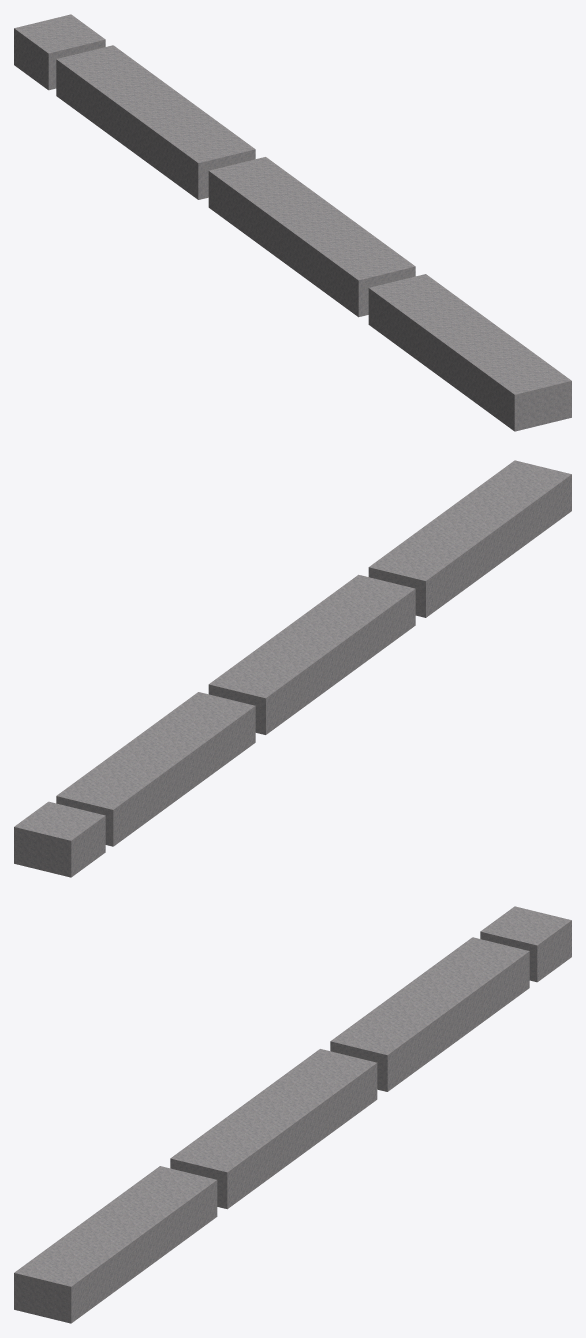
3 views of the same model, one above another, from view 1: azimuth 30°, elevation 25°; view 2: azimuth 150°, elevation 25°; view 3: azimuth 330°, elevation 25° (orthographic).
Parts seen in each view (by area): view 1: 0_0_2_2_2_2_2_3; view 2: 0_0_2_2_2_2_2_3; view 3: 0_0_2_2_2_2_2_3.
Part boxes in pixels (x1,y1,x2,y2): 0_0_2_2_2_2_2_3: (14, 14, 571, 431); 0_0_2_2_2_2_2_3: (14, 460, 571, 877); 0_0_2_2_2_2_2_3: (14, 906, 571, 1323).
Bounding box in the file's own units: 1.3 × 0.8 × 19.71.
3 materials, 3 textured.
